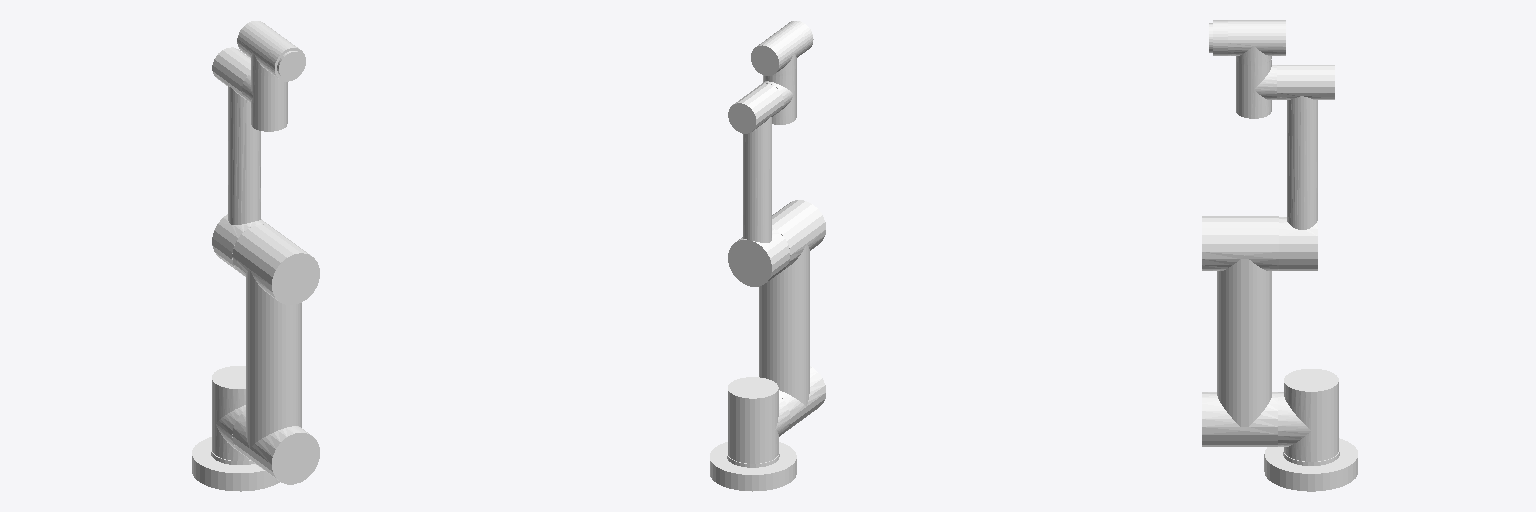
robot.urdf — aubo_iS7_T1:
<?xml version="1.0"?>
<robot  name="aubo_iS7_T1">
  <dh_type type="modified"/>
  <safety_para singularity_consistent="0.02 0.01 10 0.2 0.045 10"/>
  <friction_coeff value="0.65"/>
  <link name="base_link">
    <inertial>
      <origin xyz="-0.00001 0.00527 0.01622" rpy="0 0 0" />
      <mass value="1.0774" />
      <inertia ixx="0.00238" ixy="7.8809E-15" ixz="8.5328E-16" iyy="0.00204" iyz="-0.00004" izz="0.00409" />
    </inertial>
    <visual>
      <origin xyz="0 0 0" rpy="0 0 0" />
      <geometry>
        <mesh filename="package://aubo_description/meshes/aubo_iS7_T1/collision/link0.STL" />
      </geometry>
      <material name="">
        <color rgba="1 1 1 1" />
      </material>
    </visual>
    <collision>
      <origin xyz="0 0 0" rpy="0 0 0" />
      <geometry>
        <mesh filename="package://aubo_description/meshes/aubo_iS7_T1/collision/link0.STL" />
      </geometry>
    </collision>
  </link>

  <link name="shoulder_Link">
    <inertial>
      <origin xyz="-0.00001 0.00195 -0.01922" rpy="0 0 0" />
      <mass value="4.414" />
      <inertia ixx="0.00971" ixy="0" ixz="0" iyy="0.00966" iyz="-0.00016" izz="0.00732" />
    </inertial>
    <visual>
      <origin xyz="0 0 0" rpy="0 0 0" />
      <geometry>
        <mesh filename="package://aubo_description/meshes/aubo_iS7_T1/collision/link1.STL" />
      </geometry>
      <material name="">
        <color rgba="1 1 1 1" />
      </material>
    </visual>
    <collision>
      <origin xyz="0 0 0" rpy="0 0 0" />
      <geometry>
        <mesh filename="package://aubo_description/meshes/aubo_iS7_T1/collision/link1.STL" />
      </geometry>
    </collision>
  </link>

  <joint name="shoulder_joint" type="revolute">
    <origin xyz="0 0 0.122" rpy="0 0 3.1415926535897932384626433832795" />
    <parent link="base_link" />
    <child link="shoulder_Link" />
    <axis xyz="0 0 1" />
    <limit lower="-6.283185307179586476925286766559" upper="6.283185307179586476925286766559" effort="133" start_stop="204" velocity="4.146902" />
    <property inertia="2.0" damping="0" stiffness="0" offset="0" motor_constant="7.05" ratio="101" protect_max_torque="80.0" equa_inertia="1.5" collision_detection_para = "50 50 30 20"/>
  </joint>

  <link name="upperArm_Link">
    <inertial>
      <origin xyz="0.2040 -0.00165 0.00" rpy="0 0 0" />
      <mass value="9.78015" />
      <inertia ixx="0.02162" ixy="0" ixz="0.00002" iyy="0.38612" iyz="0" izz="0.3912" />
    </inertial>
    <visual>
      <origin xyz="0 0 0" rpy="0 0 0" />
      <geometry>
        <mesh filename="package://aubo_description/meshes/aubo_iS7_T1/collision/link2.STL" />
      </geometry>
      <material name="">
        <color rgba="1 1 1 1" />
      </material>
    </visual>
    <collision>
      <origin xyz="0 0 0" rpy="0 0 0" />
      <geometry>
        <mesh filename="package://aubo_description/meshes/aubo_iS7_T1/collision/link2.STL" />
      </geometry>
    </collision>
  </link>

  <joint name="upperArm_joint" type="revolute">
    <origin xyz="0 0.1215 0" rpy="-1.5707963267948966192313216916398 -1.5707963267948966192313216916398 0" />
    <parent link="shoulder_Link" />
    <child link="upperArm_Link" />
    <axis xyz="0 0 1" />
    <limit lower="-6.283185307179586476925286766559" upper="6.283185307179586476925286766559" effort="133" start_stop="207" velocity="4.146902" />
    <property inertia="2.0" damping="0" stiffness="0" offset="0" motor_constant="7.05" ratio="101" protect_max_torque="80.0" equa_inertia="1.5" collision_detection_para = "50 50 30 20"/>
  </joint>

  <link name="foreArm_Link">
    <inertial>
      <origin xyz="0.27656 -0.00002 0.0912" rpy="0 0 0" />
      <mass  value="2.50655" />
      <inertia ixx="0.00296" ixy="0" ixz="0.00042" iyy="0.05259" iyz="0" izz="0.05208" />
    </inertial>
    <visual>
      <origin xyz="0 0 0" rpy="0 0 0" />
      <geometry>
        <mesh filename="package://aubo_description/meshes/aubo_iS7_T1/collision/link3.STL" />
      </geometry>
      <material name="">
        <color rgba="1 1 1 1" />
      </material>
    </visual>
    <collision>
      <origin xyz="0 0 0" rpy="0 0 0" />
      <geometry>
        <mesh filename="package://aubo_description/meshes/aubo_iS7_T1/collision/link3.STL" />
      </geometry>
    </collision>
  </link>

  <joint name="foreArm_joint" type="revolute">
    <origin xyz="0.408 0 0" rpy="-3.1415926535897932384626433832795 0 0" />
    <parent link="upperArm_Link" />
    <child link="foreArm_Link" />
    <axis xyz="0 0 1" />
    <limit lower="-6.283185307179586476925286766559" upper="6.283185307179586476925286766559" effort="133" start_stop="207" velocity="4.146902" />
    <property inertia="2.0" damping="0" stiffness="0" offset="0" motor_constant="7.05" ratio="101" protect_max_torque="60.0" equa_inertia="1.2" collision_detection_para = "50 50 30 20"/>
  </joint>

  <link name="wrist1_Link">
    <inertial>
      <origin xyz="0.00002 0.01469 -0.00169" rpy="0 0 0" />
      <mass value="1.49768" />
      <inertia ixx="0.00163" ixy="0" ixz="0" iyy="0.00101" iyz="-0.00004" izz="0.0016" />
    </inertial>
    <visual>
      <origin xyz="0 0 0" rpy="0 0 0" />
      <geometry>
        <mesh filename="package://aubo_description/meshes/aubo_iS7_T1/collision/link4.STL" />
      </geometry>
      <material name="">
        <color rgba="1 1 1 1" />
      </material>
    </visual>
    <collision>
      <origin xyz="0 0 0" rpy="0 0 0" />
      <geometry>
        <mesh filename="package://aubo_description/meshes/aubo_iS7_T1/collision/link4.STL" />
      </geometry>
    </collision>
  </link>

  <joint name="wrist1_joint" type="revolute">
    <origin xyz="0.376 0 0" rpy="3.1415926535897932384626433832795 0 1.5707963267948966192313216916398" />
    <parent link="foreArm_Link" />
    <child link="wrist1_Link" />
    <axis xyz="0 0 1" />
    <limit lower="-6.283185307179586476925286766559" upper="6.283185307179586476925286766559" effort="13.5" start_stop="34" velocity="5.17141" />
    <property inertia="0.15" damping="0" stiffness="0" offset="0" motor_constant="5.94" ratio="81" protect_max_torque="16.0" equa_inertia="0.05" collision_detection_para = "50 50 30 20"/>
  </joint>

  <link name="wrist2_Link">
    <inertial>
      <origin xyz="-0.00002 -0.01469 -0.00169" rpy="0 0 0" />
      <mass value="1.49768" />
      <inertia ixx="0.00163" ixy="0" ixz="0" iyy="0.00102" iyz="0" izz="0.00193" />
    </inertial>
    <visual>
      <origin xyz="0 0 0" rpy="0 0 0" />
      <geometry>
        <mesh filename="package://aubo_description/meshes/aubo_iS7_T1/collision/link5.STL" />
      </geometry>
      <material name="">
        <color rgba="1 1 1 1" />
      </material>
    </visual>
    <collision>
      <origin xyz="0 0 0" rpy="0 0 0" />
      <geometry>
        <mesh filename="package://aubo_description/meshes/aubo_iS7_T1/collision/link5.STL" />
      </geometry>
    </collision>
  </link>

  <joint name="wrist2_joint" type="revolute">
    <origin xyz="0 0.1025 0" rpy="-1.5707963267948966192313216916398 0 0" />
    <parent link="wrist1_Link" />
    <child link="wrist2_Link" />
    <axis xyz="0 0 1" />
    <limit lower="-6.283185307179586476925286766559" upper="6.283185307179586476925286766559" effort="13.5" start_stop="34" velocity="5.17141" />
    <property inertia="0.15" damping="0" stiffness="0" offset="0" motor_constant="5.94" ratio="81" protect_max_torque="16.0" equa_inertia="0.05" collision_detection_para = "50 50 30 20"/>
  </joint>

  <link name="wrist3_Link">
    <inertial>
      <origin xyz="-0.00084 0.00036 -0.01715" rpy="0 0 0" />
      <mass value="0.23837" />
      <inertia ixx="0.00013" ixy="0" ixz="0" iyy="0.00013" iyz="0" izz="0.00021" />
    </inertial>
    <visual>
      <origin xyz="0 0 0" rpy="0 0 0" />
      <geometry>
        <mesh filename="package://aubo_description/meshes/aubo_iS7_T1/collision/link6.STL" />
      </geometry>
      <material name="">
        <color rgba="1 1 1 1" />
      </material>
    </visual>
    <collision>
      <origin xyz="0 0 0" rpy="0 0 0" />
      <geometry>
        <mesh filename="package://aubo_description/meshes/aubo_iS7_T1/collision/link6.STL" />
      </geometry>
    </collision>
  </link>

  <joint name="wrist3_joint" type="revolute">
    <origin xyz="0 -0.094 0" rpy="1.5707963267948966192313216916398 0 1.7907E-15" />
    <parent link="wrist2_Link" />
    <child link="wrist3_Link" />
    <axis xyz="0 0 1" />
    <limit lower="-6.283185307179586476925286766559" upper="6.283185307179586476925286766559" effort="13.5" start_stop="34" velocity="5.17141" />
    <property inertia="0.15" damping="0" stiffness="0" offset="0" motor_constant="5.94" ratio="81" protect_max_torque="10.0" equa_inertia="0.01" collision_detection_para = "50 50 30 20"/>
  </joint>

  <link name="world" />

  <joint name="world_joint" type="fixed">
    <parent link="world" />
    <child link = "base_link" />
    <origin xyz="0.0 0.0 0.0" rpy="0.0 0.0 0.0" />
  </joint>
</robot>

--- Facts derived from the render (not from the file) ---
Views: 3 orthographic renders of the robot side by side, from view 1: azimuth 30°, elevation 25°; view 2: azimuth 150°, elevation 25°; view 3: azimuth 270°, elevation 25°.
Model aubo_iS7_T1 with 8 links and 7 joints (6 revolute, 1 fixed), rooted at world, posed all joints at 0.
Visible links, largest first — view 1: upperArm_Link, foreArm_Link, shoulder_Link, base_link, wrist1_Link, wrist2_Link, wrist3_Link; view 2: upperArm_Link, foreArm_Link, shoulder_Link, base_link, wrist2_Link, wrist1_Link; view 3: upperArm_Link, foreArm_Link, shoulder_Link, base_link, wrist2_Link, wrist1_Link, wrist3_Link.
Link boxes in pixels (box(x1,y1,x2,y2)): upperArm_Link: box(232, 224, 319, 484); foreArm_Link: box(212, 47, 272, 272); shoulder_Link: box(212, 366, 249, 460); base_link: box(192, 437, 279, 491); wrist1_Link: box(242, 72, 287, 131); wrist2_Link: box(237, 21, 290, 77); wrist3_Link: box(267, 42, 305, 81); upperArm_Link: box(759, 200, 825, 430); foreArm_Link: box(728, 83, 789, 286); shoulder_Link: box(728, 377, 790, 463); base_link: box(710, 442, 796, 491); wrist2_Link: box(751, 26, 805, 75); wrist1_Link: box(762, 69, 796, 124); upperArm_Link: box(1202, 216, 1278, 446); foreArm_Link: box(1277, 65, 1334, 270); shoulder_Link: box(1278, 369, 1338, 461); base_link: box(1264, 438, 1357, 491); wrist2_Link: box(1228, 20, 1285, 65); wrist1_Link: box(1236, 59, 1276, 118); wrist3_Link: box(1209, 20, 1227, 55).
Size in the robot's own frame: 0.1973 by 0.3305 by 1.05 metres.
7 mesh visuals loaded from 7 distinct referenced files (7 binary STL).
